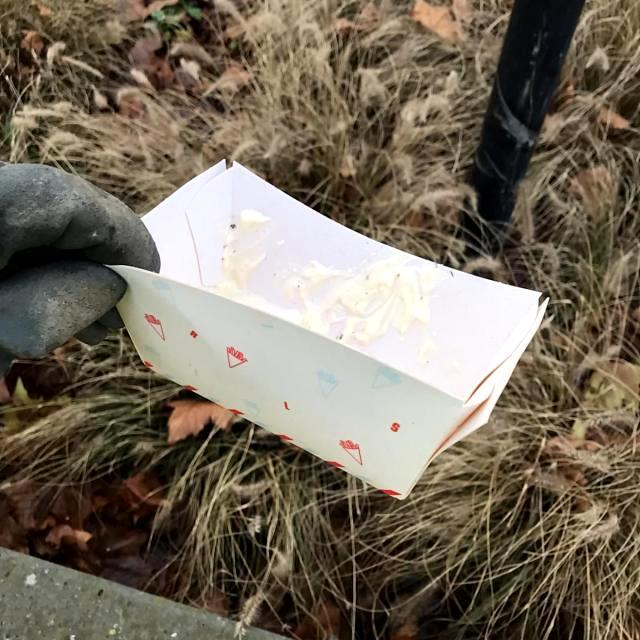Paper: (102, 154, 550, 506)
